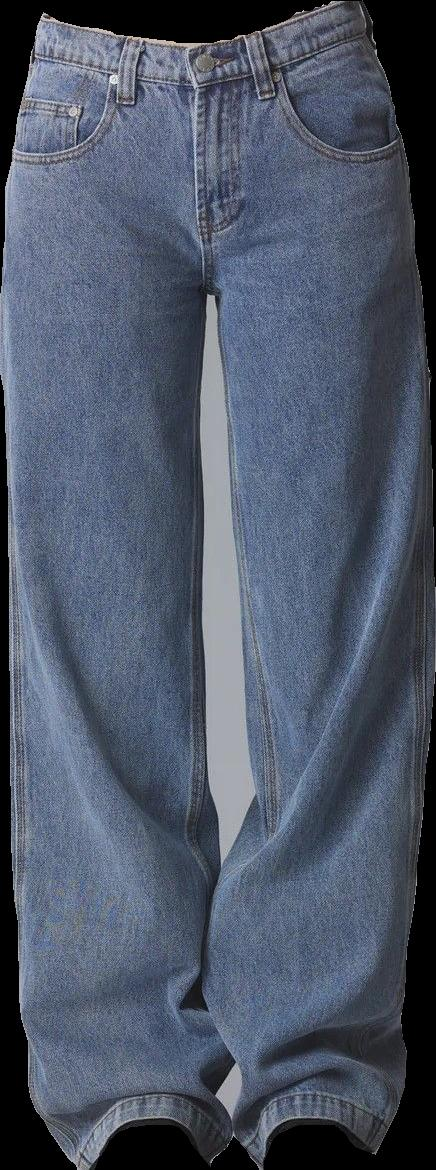Hemline: (78, 1105, 226, 1169), (254, 1111, 384, 1168)
Pantleg: (0, 15, 254, 1169), (187, 3, 434, 1168)
Waistline: (41, 0, 366, 58)
